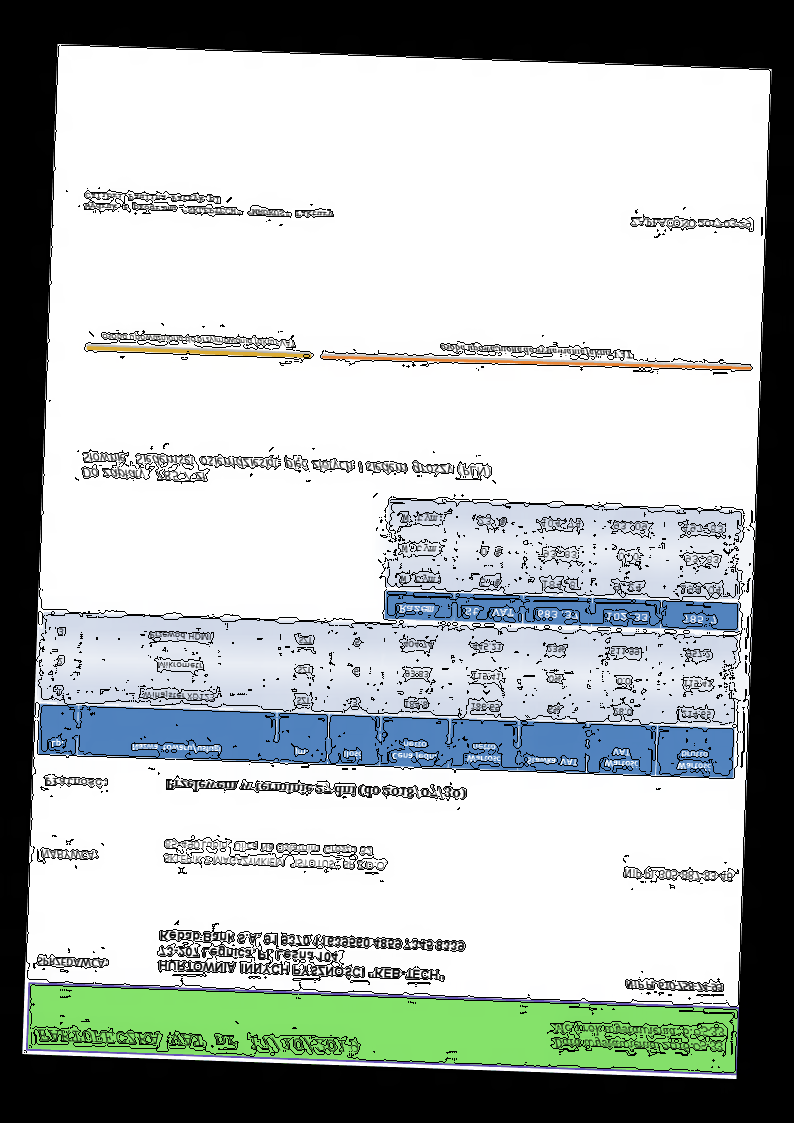Table: (36, 610, 739, 781), (382, 497, 745, 632)
TextBox: (78, 449, 493, 497), (156, 926, 468, 986), (34, 1024, 361, 1056), (161, 836, 390, 874), (163, 776, 467, 804), (82, 189, 337, 221), (549, 1018, 727, 1057), (100, 328, 299, 350), (438, 341, 634, 362), (627, 213, 752, 233), (620, 865, 735, 885), (623, 977, 725, 996), (34, 955, 110, 972), (41, 775, 109, 791), (39, 848, 99, 864)
